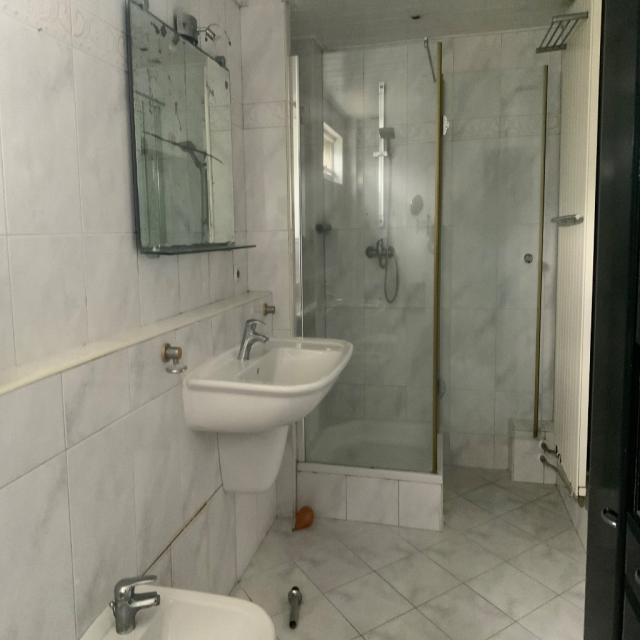douche: (291, 32, 446, 530)
toilet: (81, 573, 276, 640)
wastafel: (186, 316, 353, 494)
